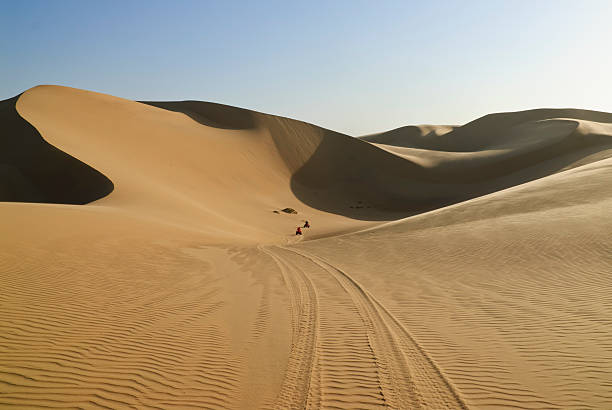vehicle_track: (275, 247, 466, 407), (258, 245, 317, 408)
